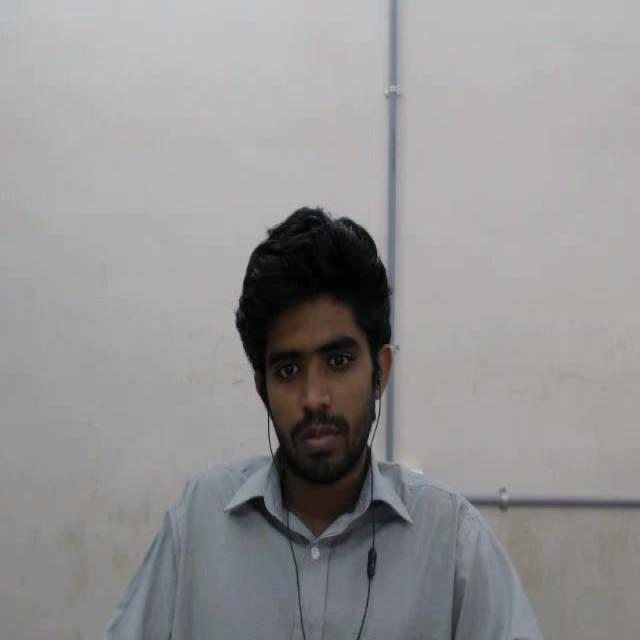Engaged: (213, 194, 437, 560)
